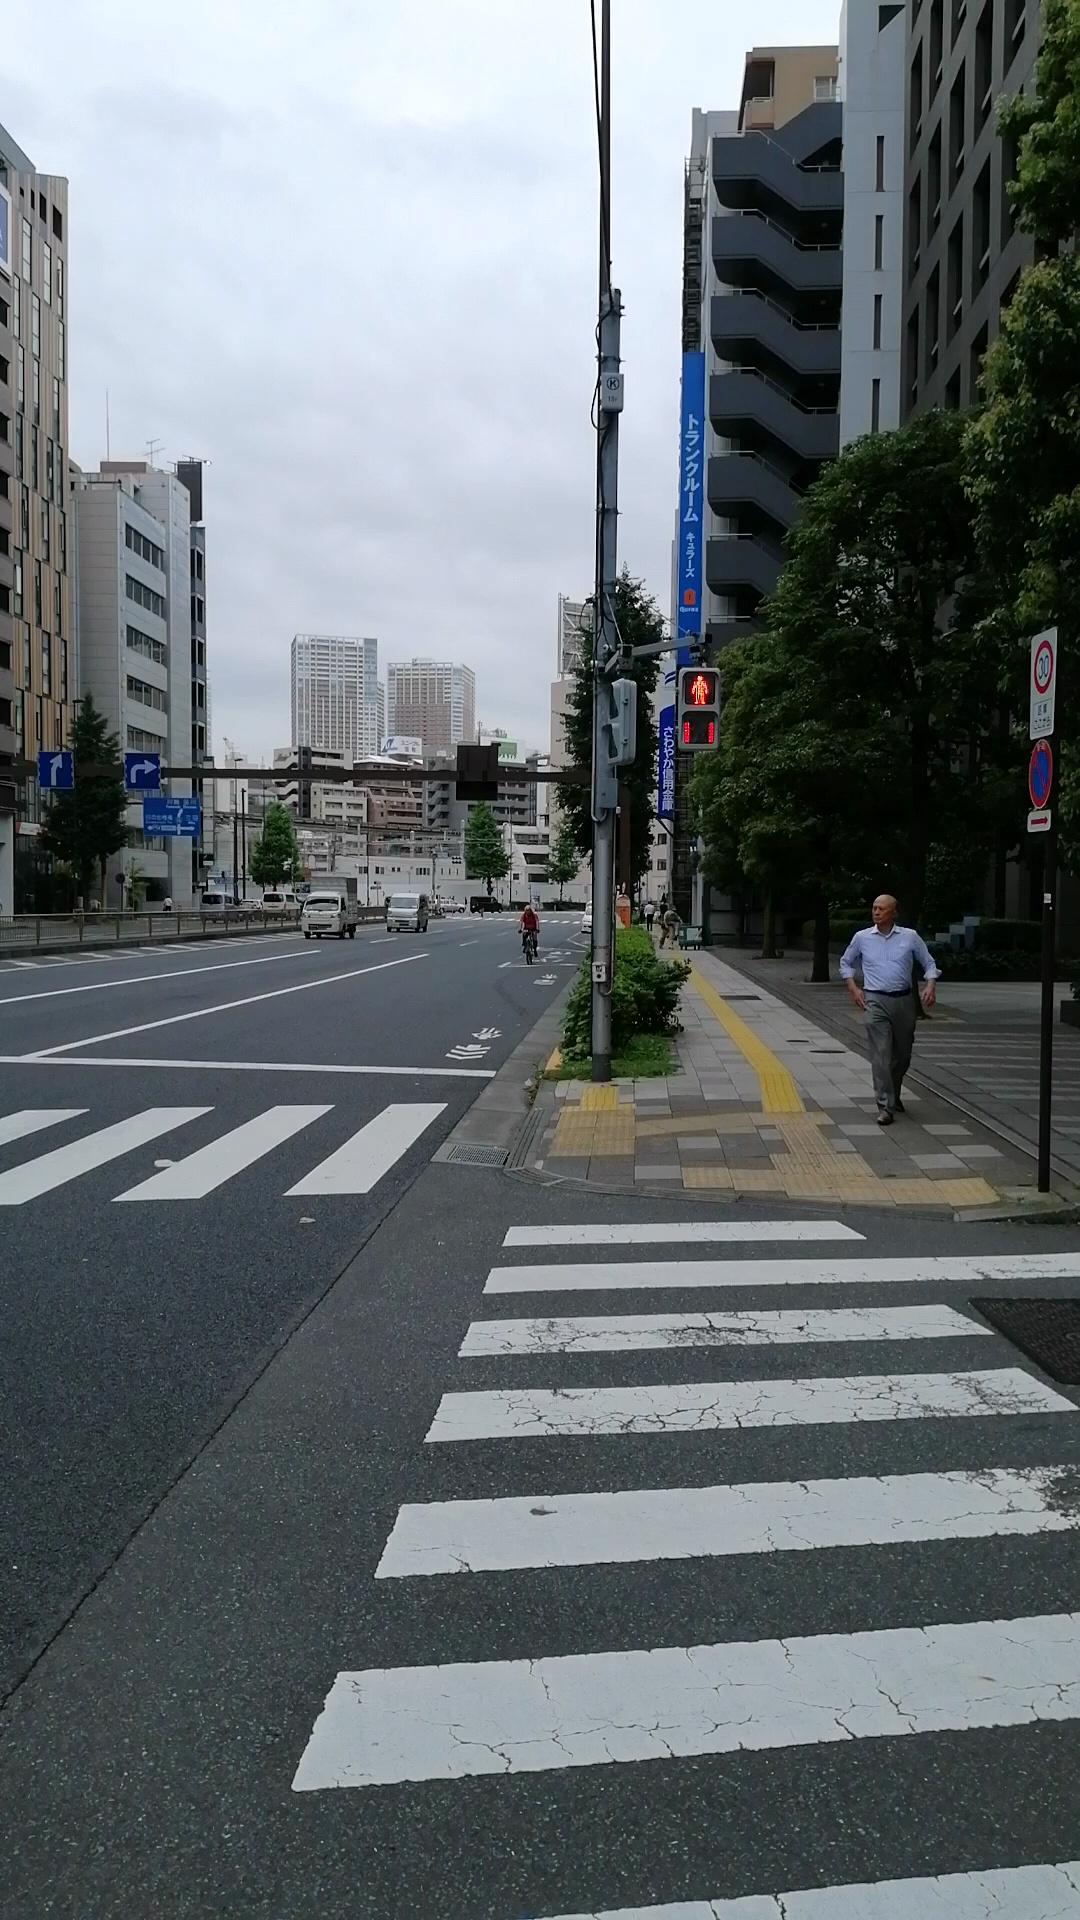red: (675, 666, 719, 750)
